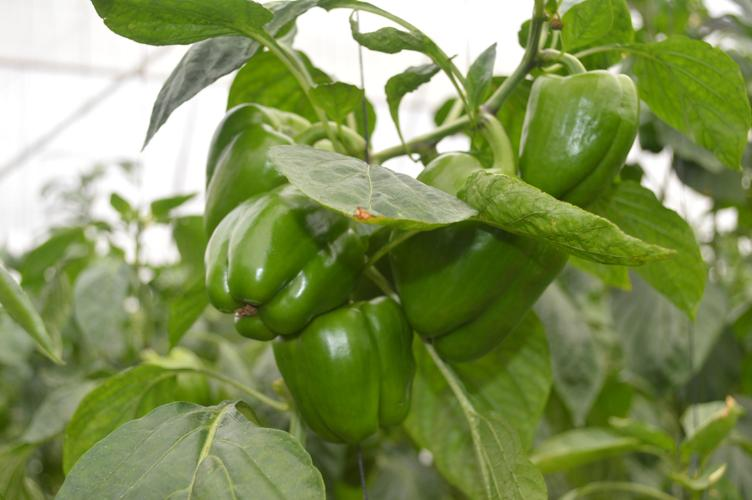BellPepper: (381, 140, 568, 367), (174, 183, 383, 333), (265, 301, 429, 453), (511, 53, 646, 229), (184, 96, 337, 208)
